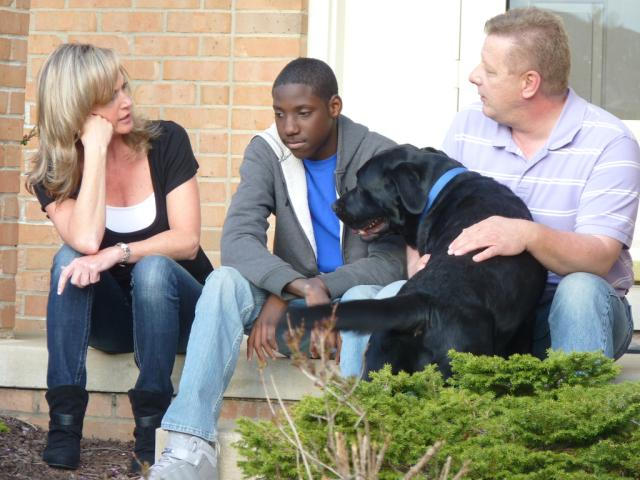Dog: (281, 144, 550, 401)
